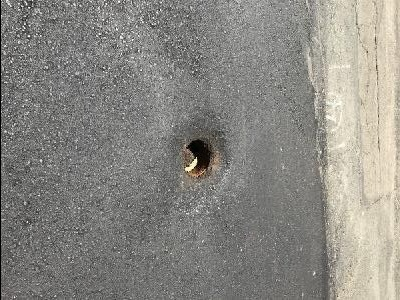pothole: (180, 133, 216, 181)
